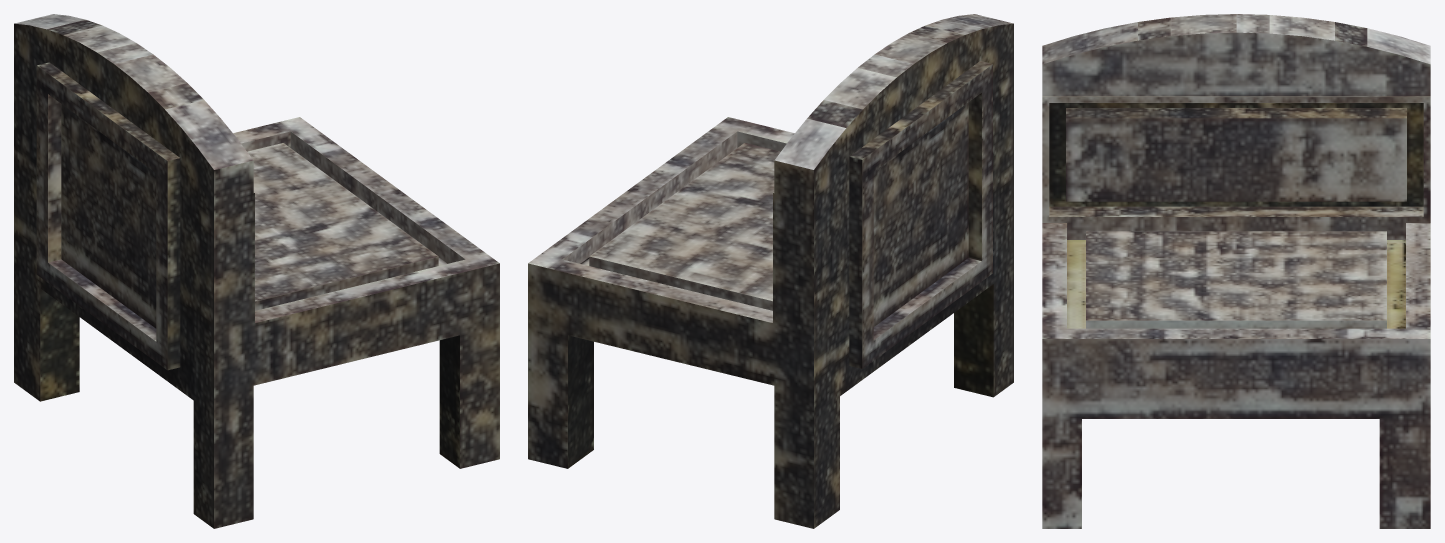
The picture shows the model from 3 angles, left to right: view 1: azimuth 30°, elevation 25°; view 2: azimuth 150°, elevation 25°; view 3: azimuth 270°, elevation 25°; orthographic projection. The views are drawn at different scales.
Visible parts, largest first — view 1: Node; view 2: Node; view 3: Node.
Boxes of the visible parts, bbox=[...] form: Node: bbox=[14, 14, 499, 528]; Node: bbox=[528, 14, 1013, 528]; Node: bbox=[1042, 14, 1430, 528].
Size of the model in its own units: 0.5587 by 0.7 by 0.6483.
Materials: 1 (1 with a texture image).
